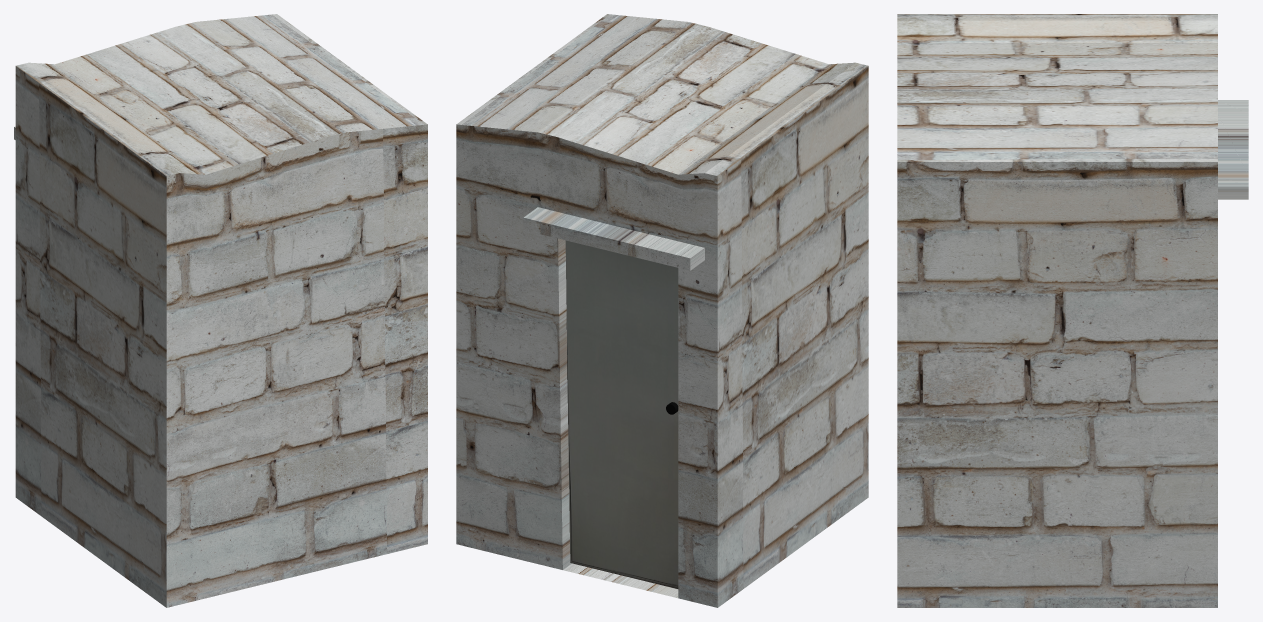
Rendered from PORTE haut immeuble.glb.
3 views of the same model, side by side, from view 1: azimuth 30°, elevation 25°; view 2: azimuth 150°, elevation 25°; view 3: azimuth 270°, elevation 25° (orthographic). The views are drawn at different scales.
Parts seen in each view (by area): view 1: Cube; view 2: Cube, Plane; view 3: Cube.
Boxes of the visible parts, left/top/right/bottom form: Cube: left=14, top=14, right=427, bottom=607; Cube: left=456, top=14, right=868, bottom=607; Plane: left=565, top=240, right=678, bottom=588; Cube: left=897, top=14, right=1248, bottom=607.
Size of the model in its own units: 2.14 by 3.38 by 2.35.
3 materials, 2 textured.
